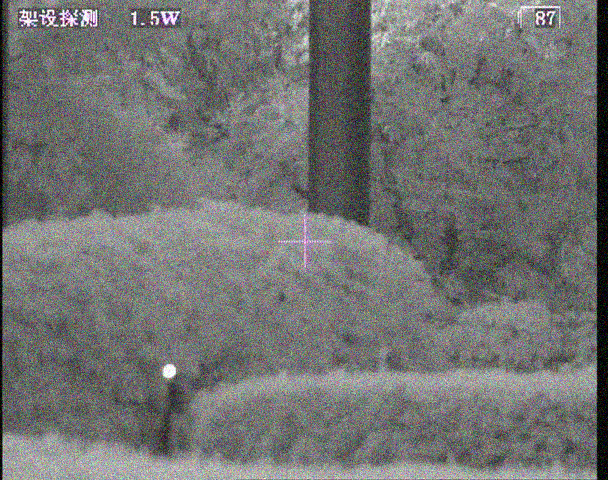my: (161, 362, 177, 379)
